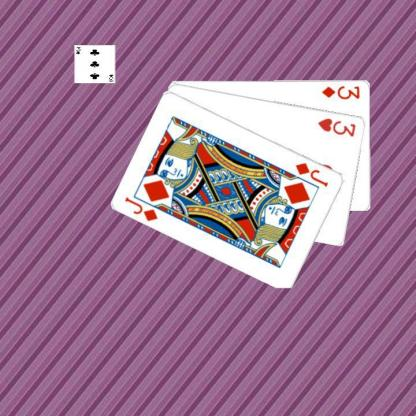3D: (320, 83, 361, 100)
3H: (316, 115, 357, 138)
JD: (122, 194, 160, 223), (293, 160, 330, 188)
